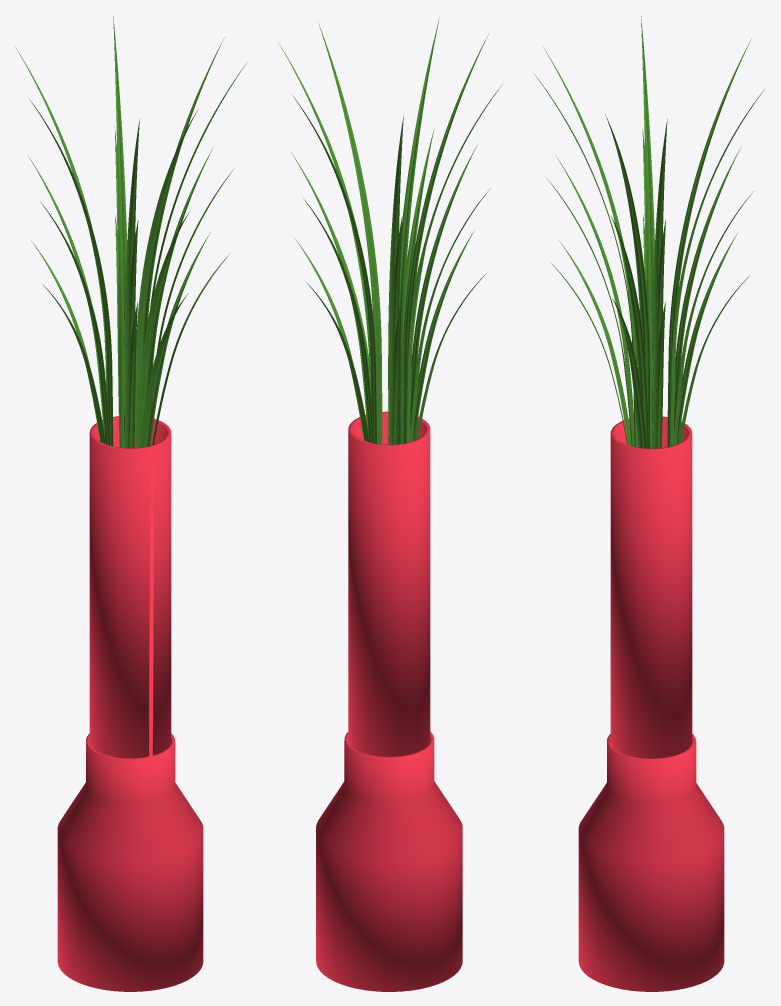
The model's file is seed_red.dae.
3 views of the same model, side by side, from view 1: azimuth 30°, elevation 25°; view 2: azimuth 150°, elevation 25°; view 3: azimuth 270°, elevation 25° (orthographic).
Visible parts, largest first — view 1: Abu2024_field - seedlings_blue-1 seedling-2, Abu2024_field - seedlings_blue-1 Grass-4; view 2: Abu2024_field - seedlings_blue-1 seedling-2, Abu2024_field - seedlings_blue-1 Grass-4; view 3: Abu2024_field - seedlings_blue-1 seedling-2, Abu2024_field - seedlings_blue-1 Grass-4.
Boxes of the visible parts, x1,y1,x2,y2 form: Abu2024_field - seedlings_blue-1 seedling-2: [57, 416, 203, 991]; Abu2024_field - seedlings_blue-1 Grass-4: [15, 16, 247, 448]; Abu2024_field - seedlings_blue-1 seedling-2: [316, 411, 462, 991]; Abu2024_field - seedlings_blue-1 Grass-4: [279, 16, 501, 444]; Abu2024_field - seedlings_blue-1 seedling-2: [578, 416, 724, 991]; Abu2024_field - seedlings_blue-1 Grass-4: [534, 15, 764, 448].
Bounding box in the file's own units: 0.1259 × 0.1209 × 0.508.
